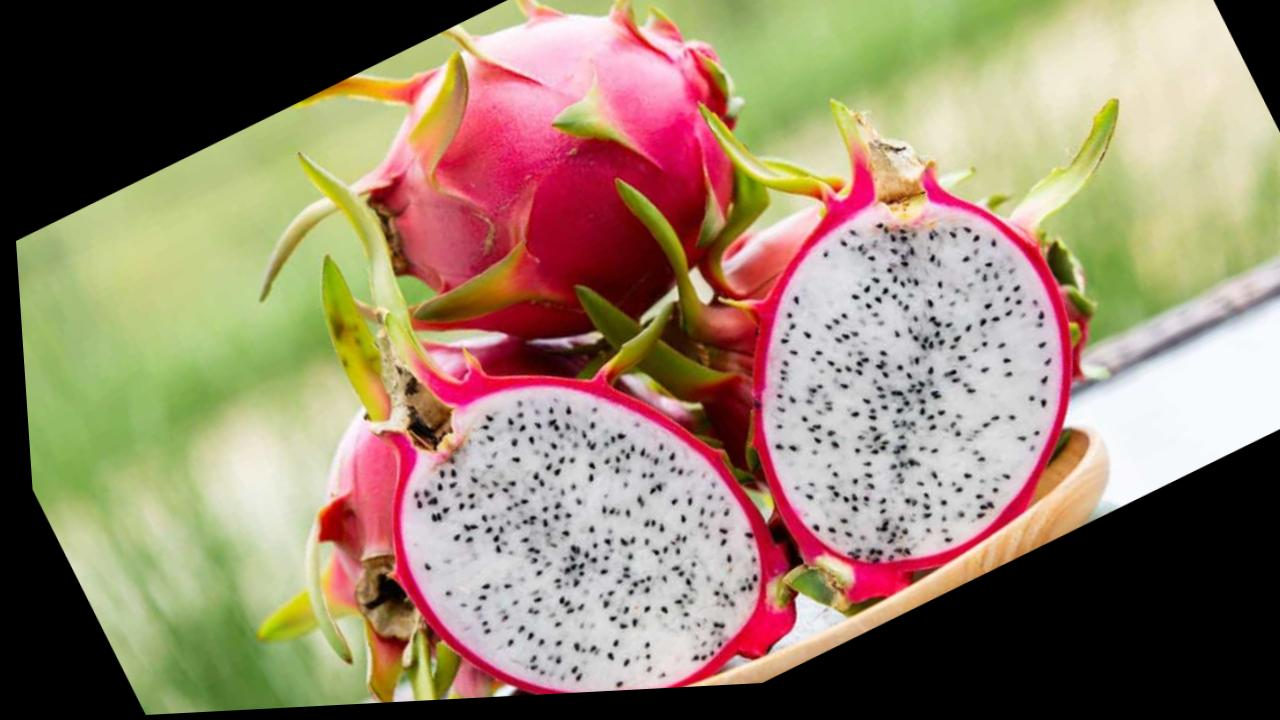organic: (616, 102, 1114, 653), (267, 4, 832, 448), (322, 357, 793, 692)
